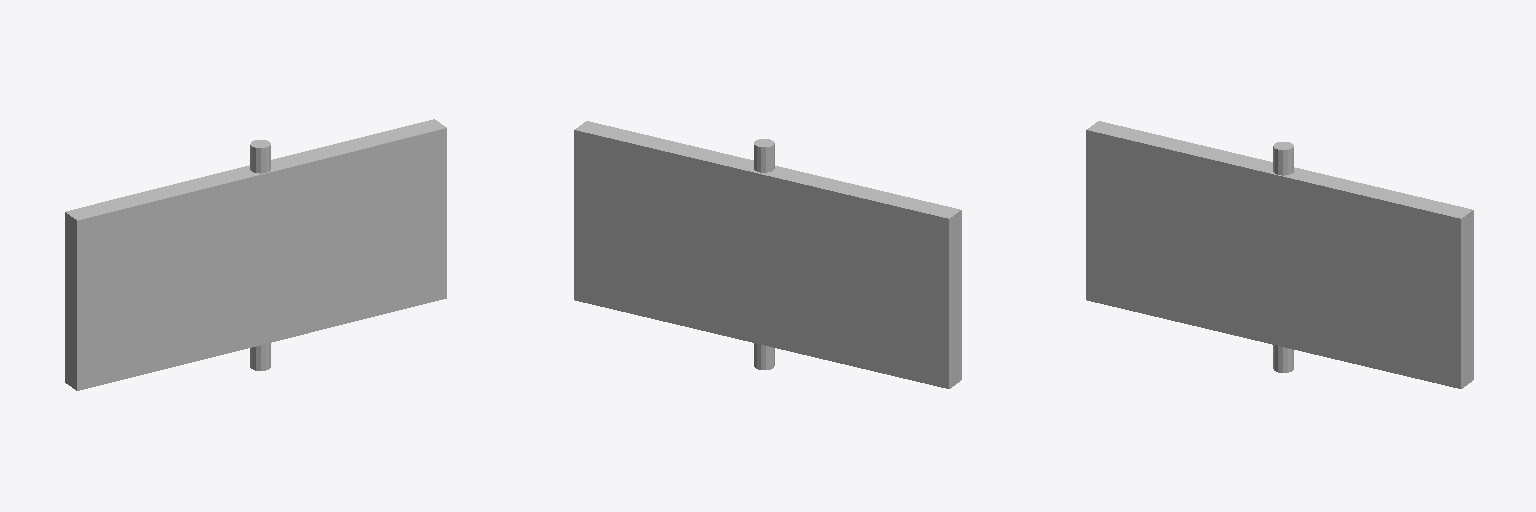
The model's file is puertaVanta.obj.
3 views of the same model, side by side, from view 1: azimuth 30°, elevation 25°; view 2: azimuth 150°, elevation 25°; view 3: azimuth 330°, elevation 25° (orthographic).
Parts seen in each view (by area): view 1: puerta1; view 2: puerta1; view 3: puerta1.
Part boxes in pixels (x1,y1,x2,y2): puerta1: (65,119,446,390); puerta1: (574,121,961,388); puerta1: (1086,121,1473,388).
Size of the model in its own units: 0.7155 by 0.4088 by 0.0494.